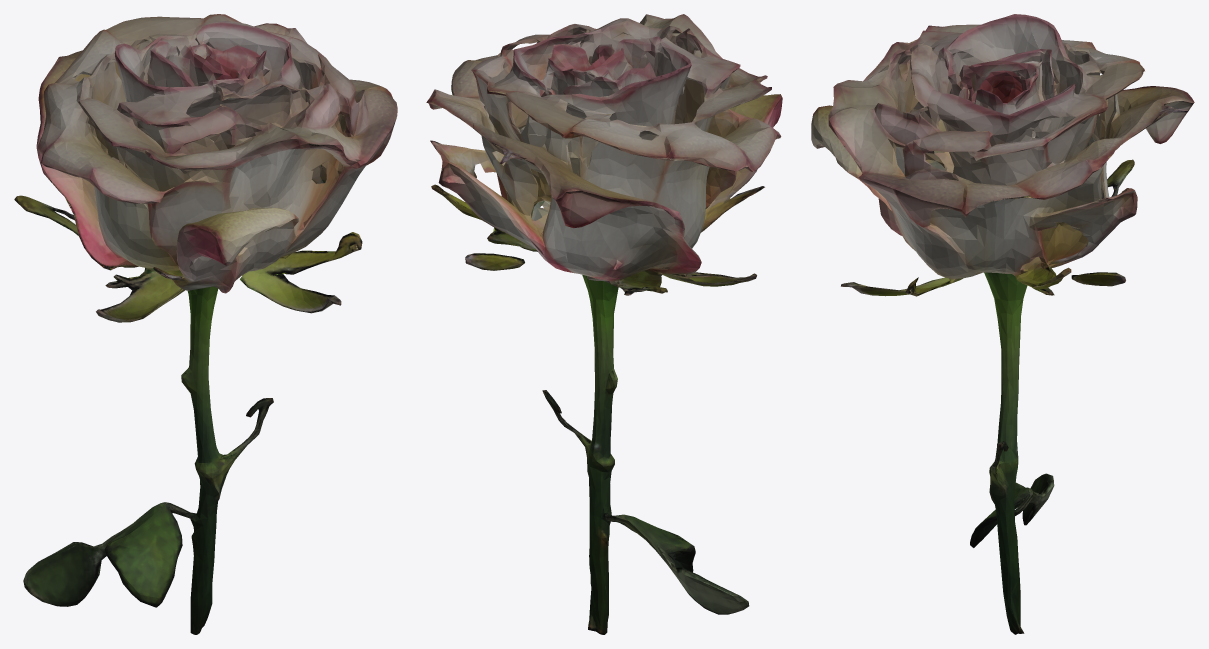
3 views of the same model, side by side, from view 1: azimuth 30°, elevation 25°; view 2: azimuth 150°, elevation 25°; view 3: azimuth 270°, elevation 25° (orthographic).
Parts seen in each view (by area): view 1: world; view 2: world; view 3: world.
Boxes of the visible parts, x1,y1,x2,y2 form: world: [14, 14, 397, 634]; world: [426, 14, 782, 634]; world: [811, 14, 1194, 634].
Bounding box in the file's own units: 0.5483 × 0.9362 × 0.5572.
Materials: 1 (1 with a texture image).
